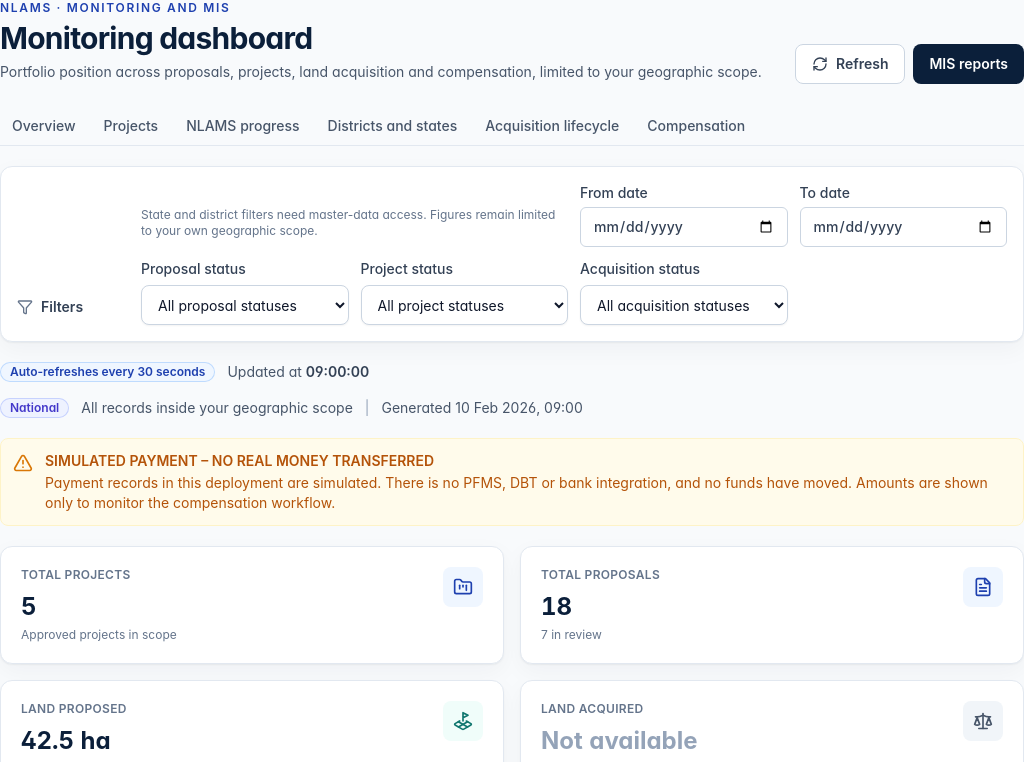
Scenario: Monitoring dashboard › keeps the last successful data visible when a refresh fails
Expected: the text "Total projects" is shown, [21, 567, 130, 582]
What coordinates should you click on to do the following:
click the button "Refresh"
I would click on:
 (850, 64)
Its box is [795, 44, 906, 84].
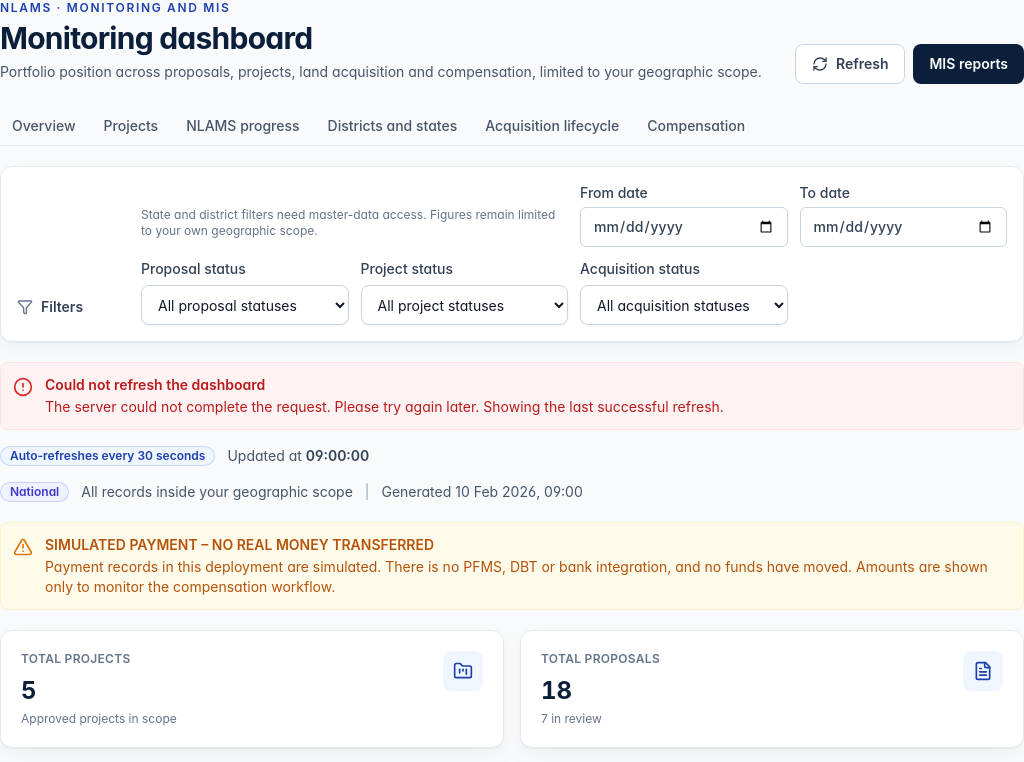
Expected: the text "Total projects" is shown, [21, 651, 130, 666]
Result: the message that starts with "Could not refresh the dashboard" is shown at [45, 376, 265, 393]
Result: the message that starts with "Could not refresh the dashboard" shows "last successful refresh" at [479, 398, 724, 415]
